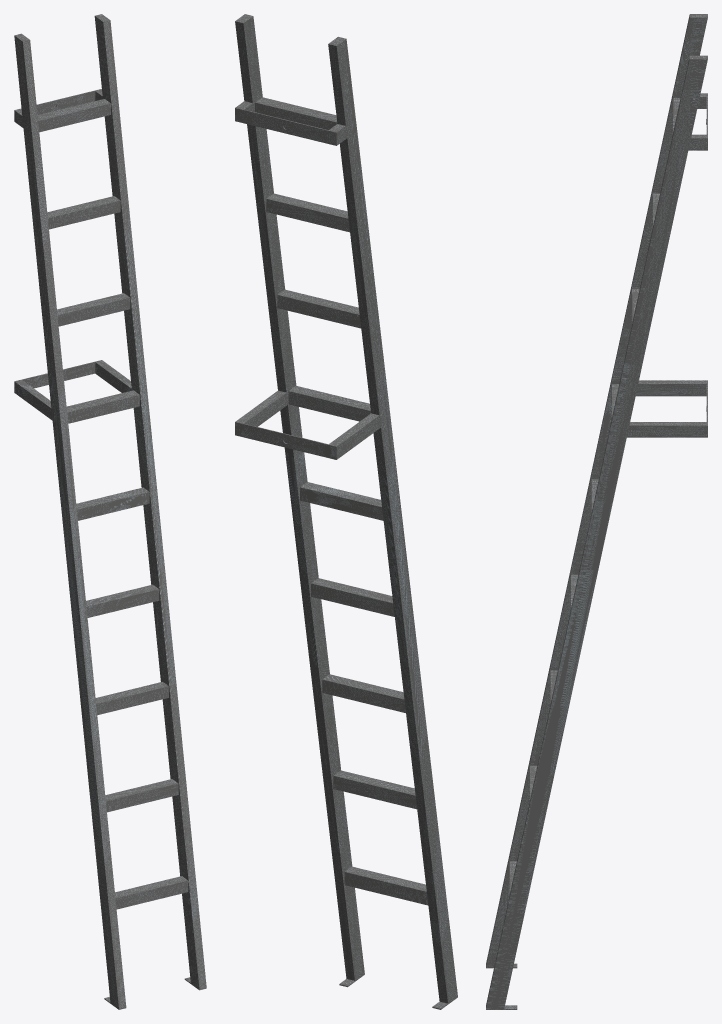
Rendered from oliveladderpoly.obj.
3 renders of one model, left to right at view 1: azimuth 30°, elevation 25°; view 2: azimuth 150°, elevation 25°; view 3: azimuth 270°, elevation 25°, orthographic. The views are drawn at different scales.
Parts seen in each view (by area): view 1: Mesh1 Model; view 2: Mesh1 Model; view 3: Mesh1 Model.
Part boxes in pixels (left/top/right/bottom): Mesh1 Model: left=14, top=14, right=206, bottom=1009; Mesh1 Model: left=235, top=14, right=457, bottom=1009; Mesh1 Model: left=486, top=14, right=707, bottom=1009.
Bounding box in the file's own units: 12.01 × 117 × 24.84.
